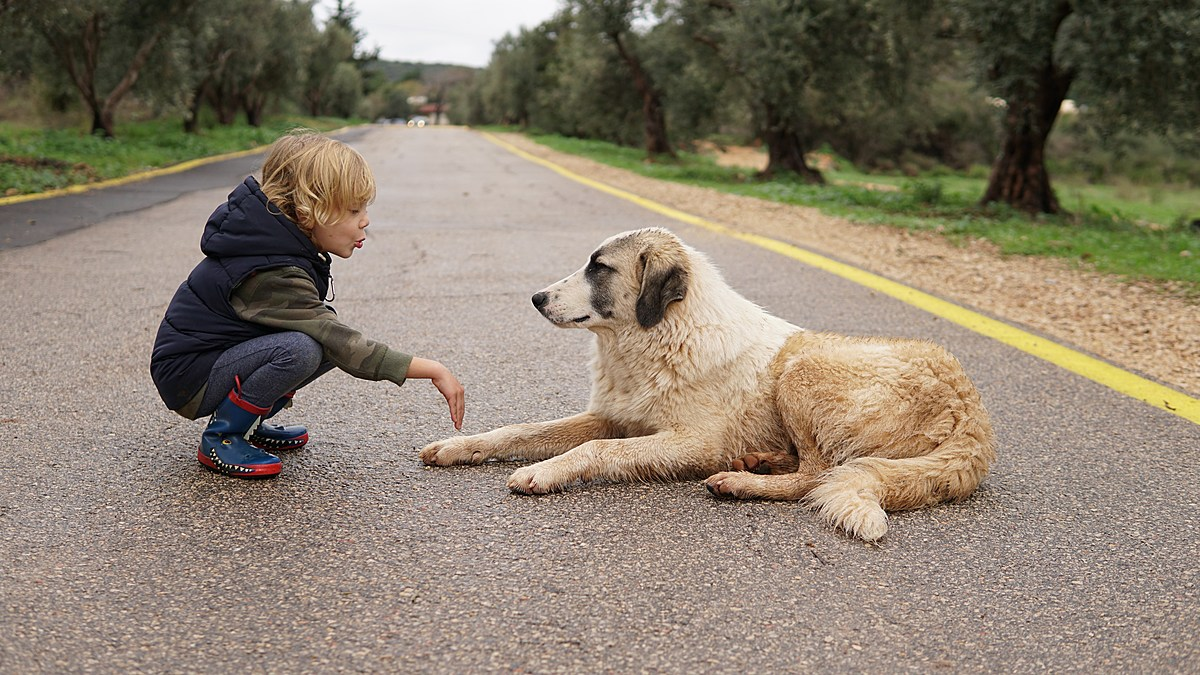kopek: (410, 224, 998, 539)
yaya: (149, 131, 418, 494)
